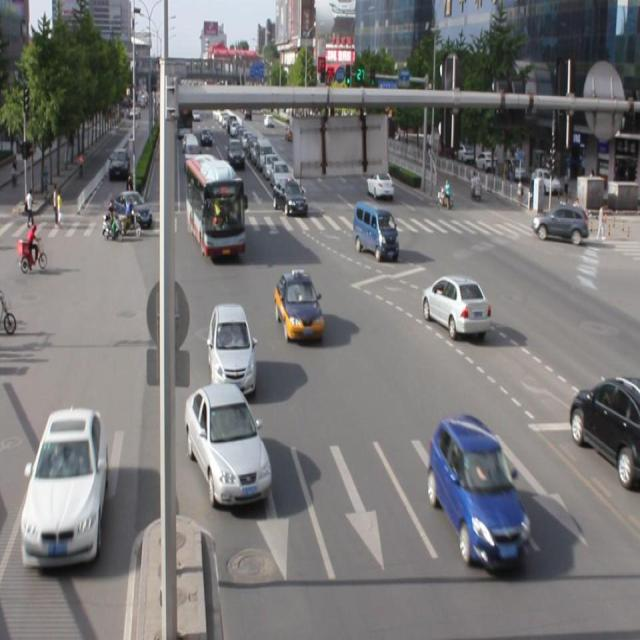car: (429, 416, 529, 567), (20, 404, 109, 563), (186, 383, 272, 505), (568, 376, 640, 486), (207, 302, 257, 396), (422, 272, 491, 335), (274, 269, 325, 341)
truck: (353, 202, 399, 258)
van: (185, 158, 245, 255)
